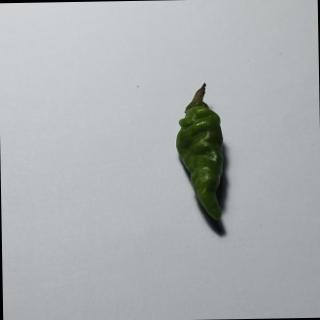Cabai Hijau: (171, 78, 234, 233)
